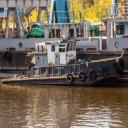tugboat: (2, 35, 127, 91)
